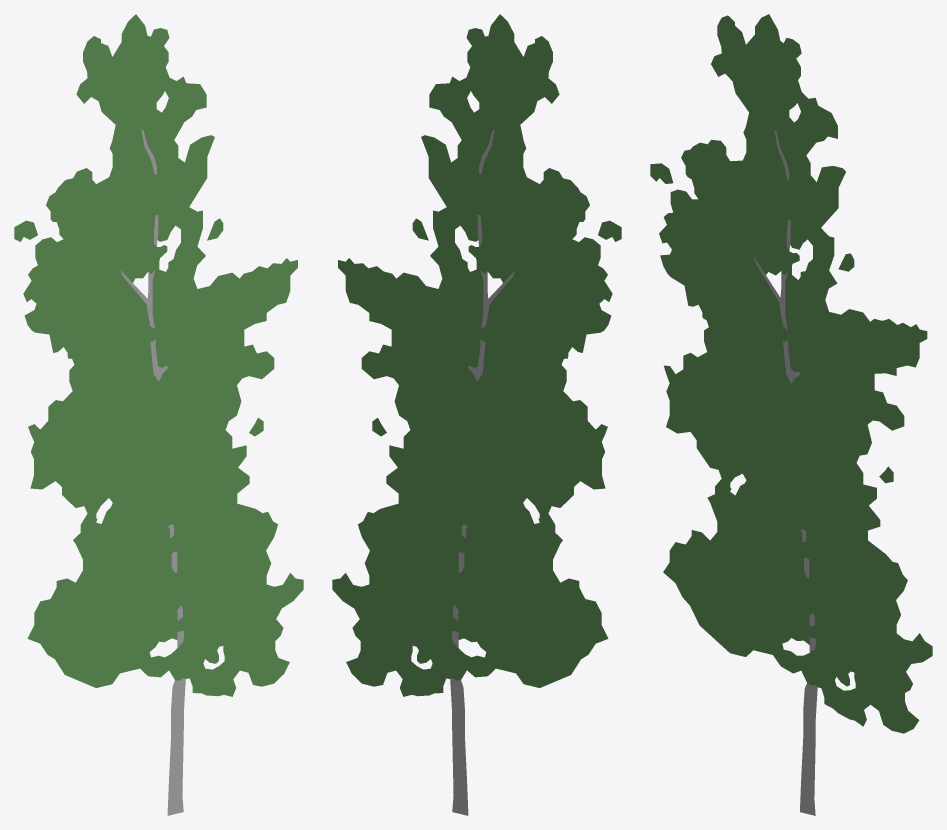
File: schematic-tree.dae
3 renders of one model, left to right at view 1: azimuth 30°, elevation 25°; view 2: azimuth 150°, elevation 25°; view 3: azimuth 330°, elevation 25°, orthographic. The views are drawn at different scales.
Visible parts, largest first — view 1: SketchUp (×2); view 2: SketchUp (×2); view 3: SketchUp (×2).
Boxes of the visible parts, x1=… form: SketchUp (×2): x1=23, y1=14, x2=303, y2=815; SketchUp (×2): x1=332, y1=14, x2=612, y2=815; SketchUp (×2): x1=659, y1=14, x2=932, y2=815.
Size of the model in its own units: 114 by 1.04e-13 by 305.
